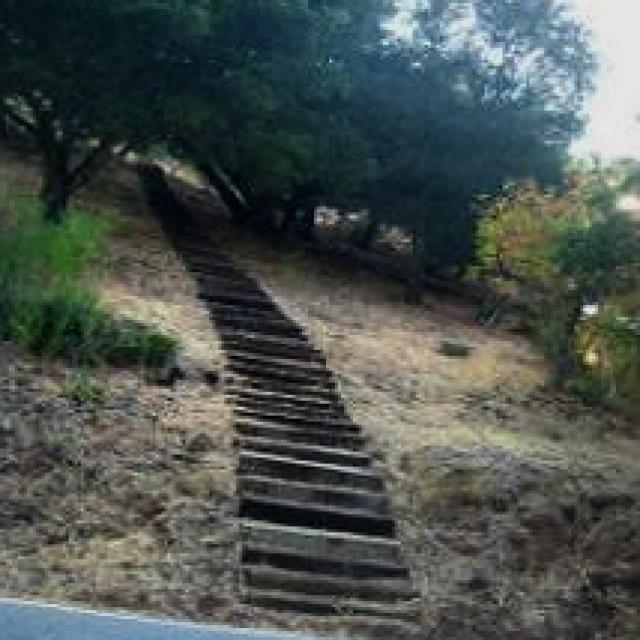upstair: (222, 354, 420, 623)
